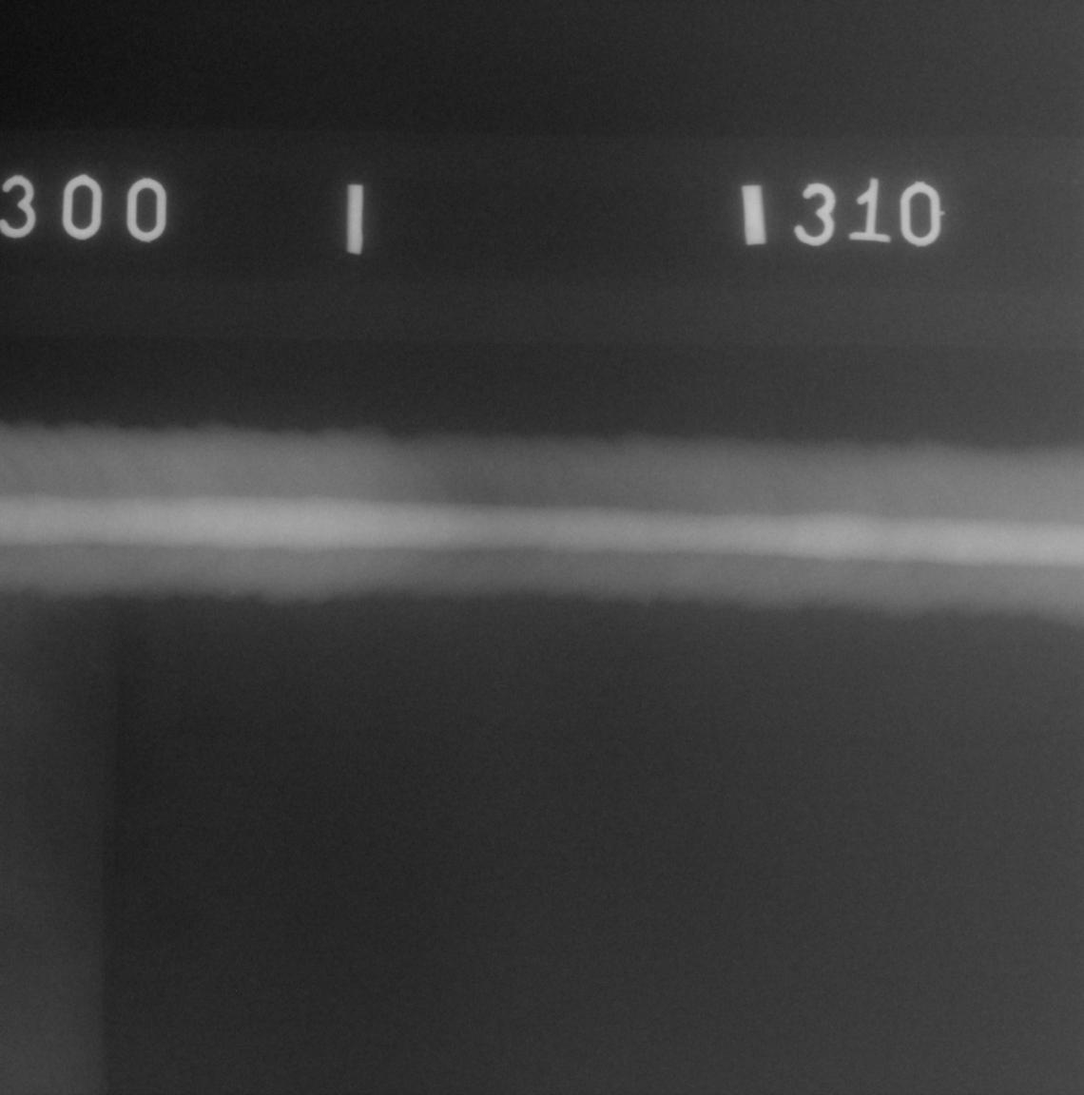Pore/Porosity: (648, 505, 653, 509)
